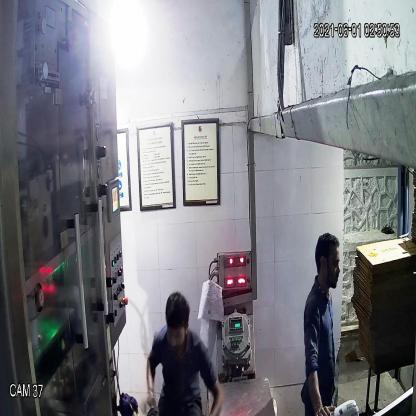no_goggles: (314, 253, 342, 275)
